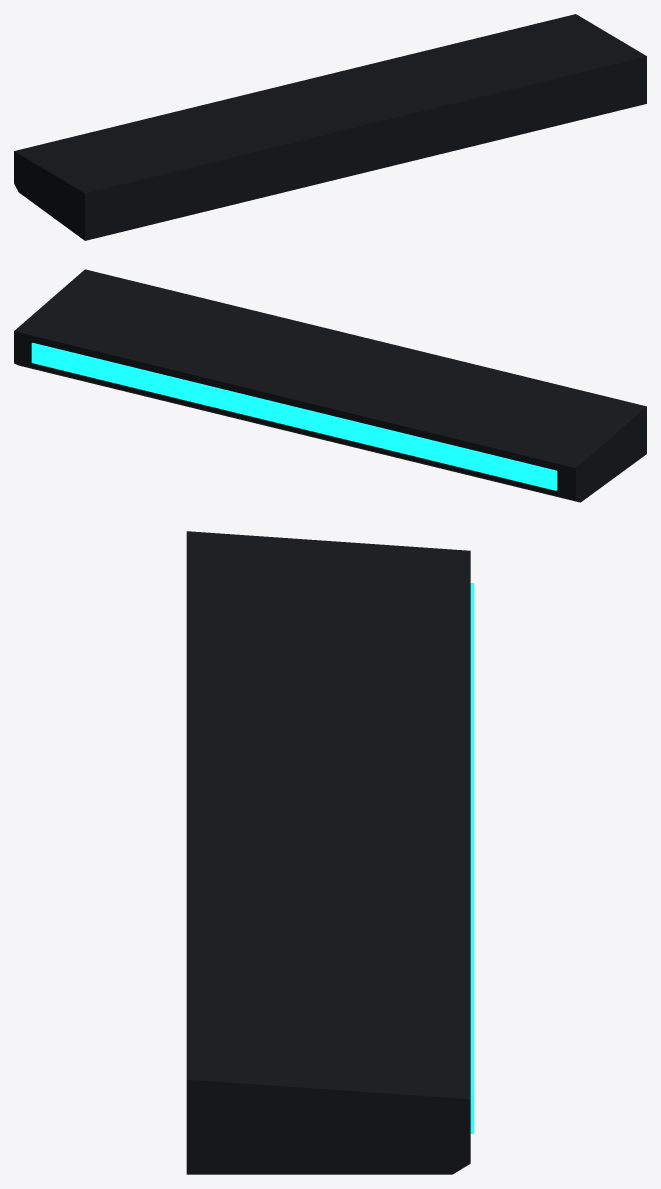
File: visor_single_line.glb
3 views of the same model, one above another, from view 1: azimuth 30°, elevation 25°; view 2: azimuth 150°, elevation 25°; view 3: azimuth 270°, elevation 25° (orthographic). The views are drawn at different scales.
Visible parts, largest first — view 1: visor_single_line_deco_body; view 2: visor_single_line_deco_body, visor_single_line_deco_neon; view 3: visor_single_line_deco_body, visor_single_line_deco_neon.
Boxes of the visible parts, x1,y1,x2,y2 form: visor_single_line_deco_body: (14, 14, 646, 240); visor_single_line_deco_body: (14, 269, 646, 502); visor_single_line_deco_neon: (31, 343, 557, 490); visor_single_line_deco_body: (186, 531, 470, 1174); visor_single_line_deco_neon: (470, 583, 474, 1133).
Bounding box in the file's own units: 2.1 × 0.17 × 0.466.
